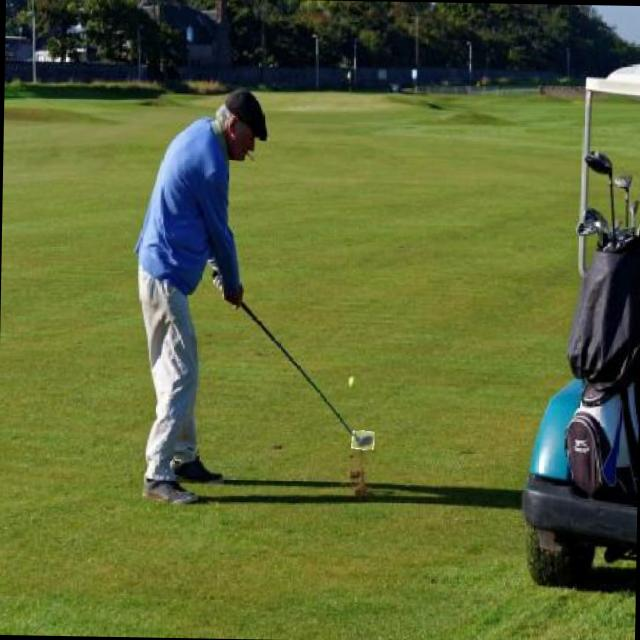club head: (351, 430, 374, 450)
